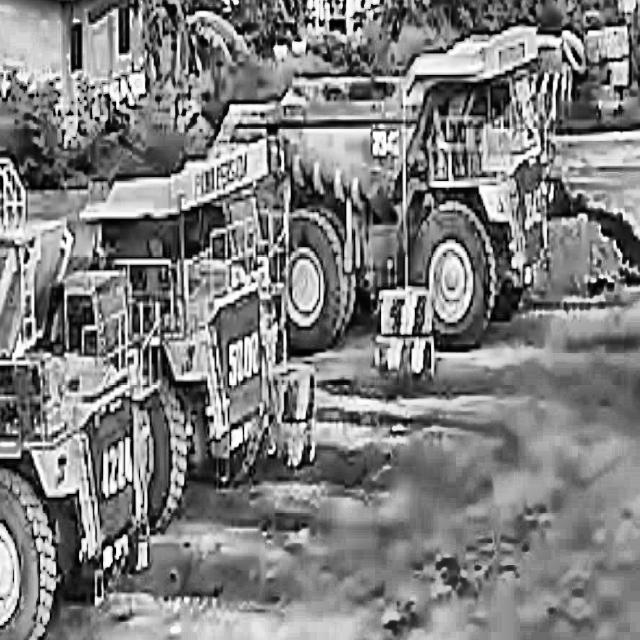dump_truck: (244, 26, 556, 346), (0, 173, 144, 640)
